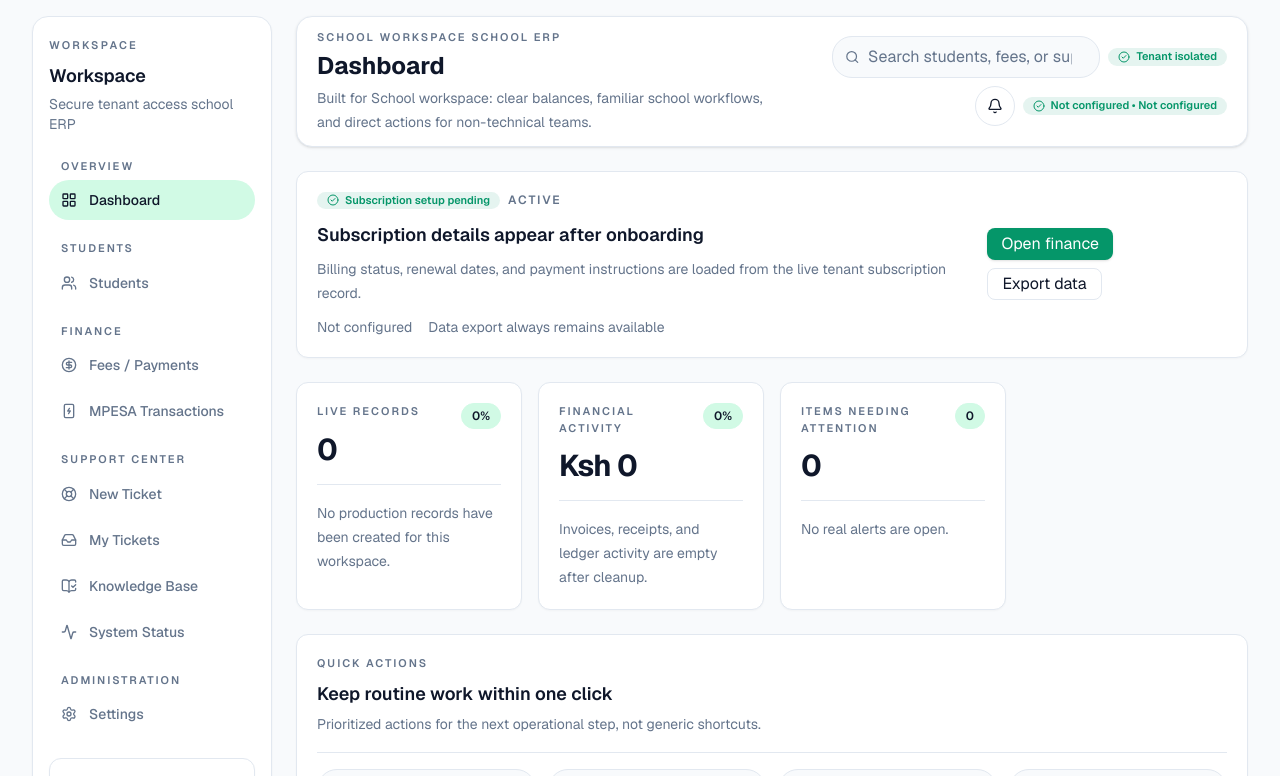
experience actions › supports shell search and notifications inside the hosted school workspace
In the search field named "Workspace search": (978, 57) [868,45,1088,69], type "fees"
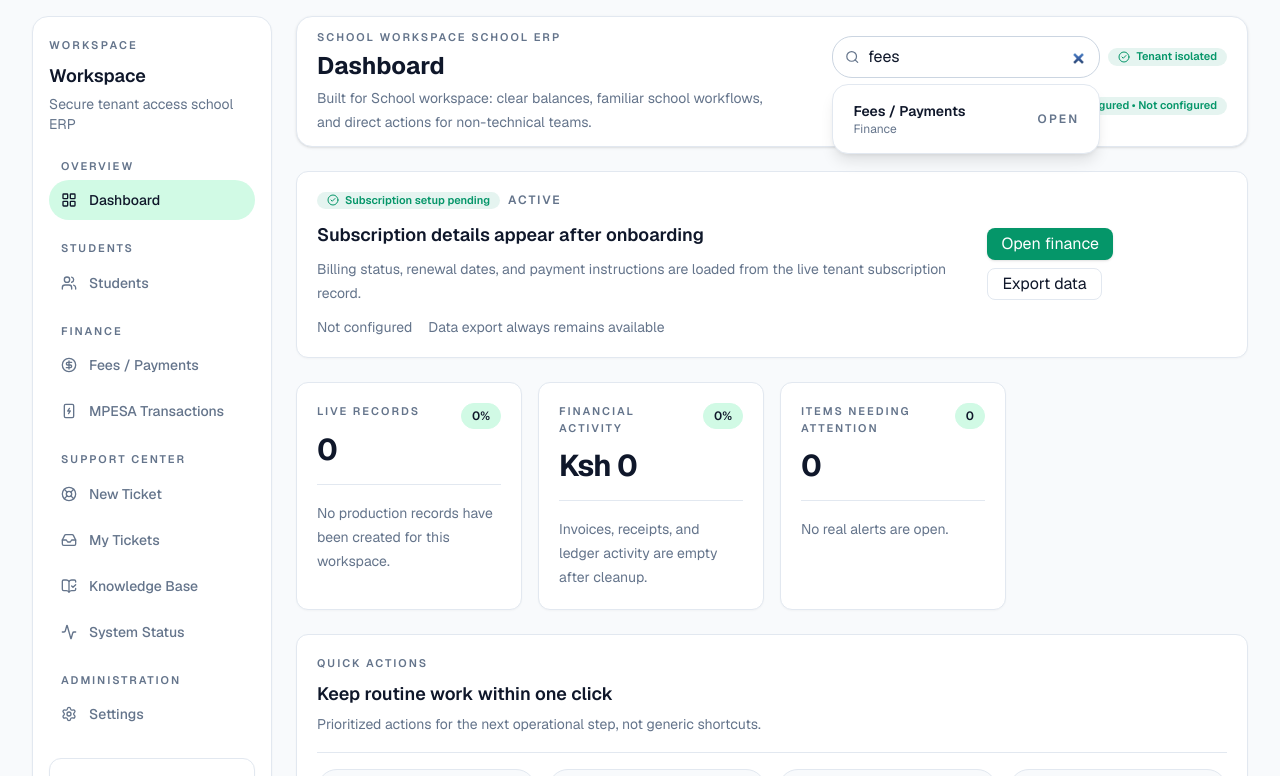
Click the button "Fees / Payments Finance Open": (966, 119) [841,93,1091,145]
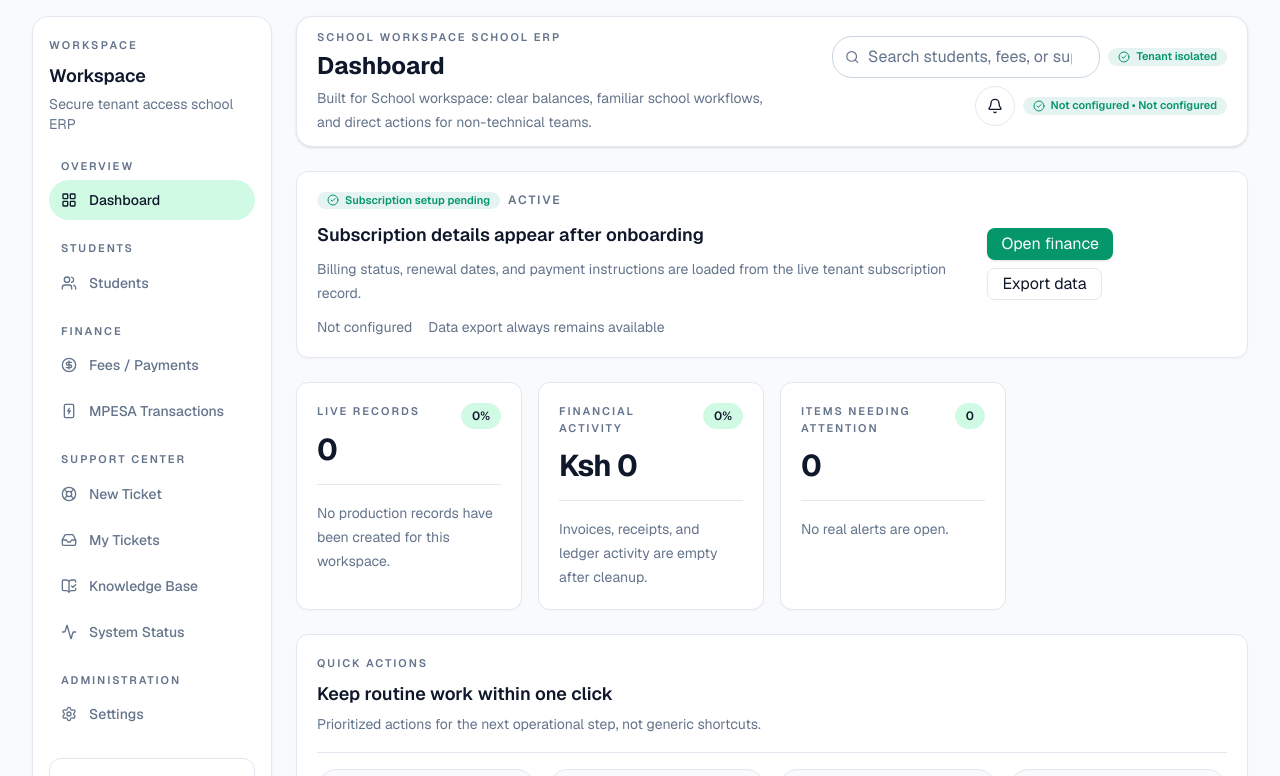
Click the button named "Notifications": (994, 106) [974,86,1014,126]
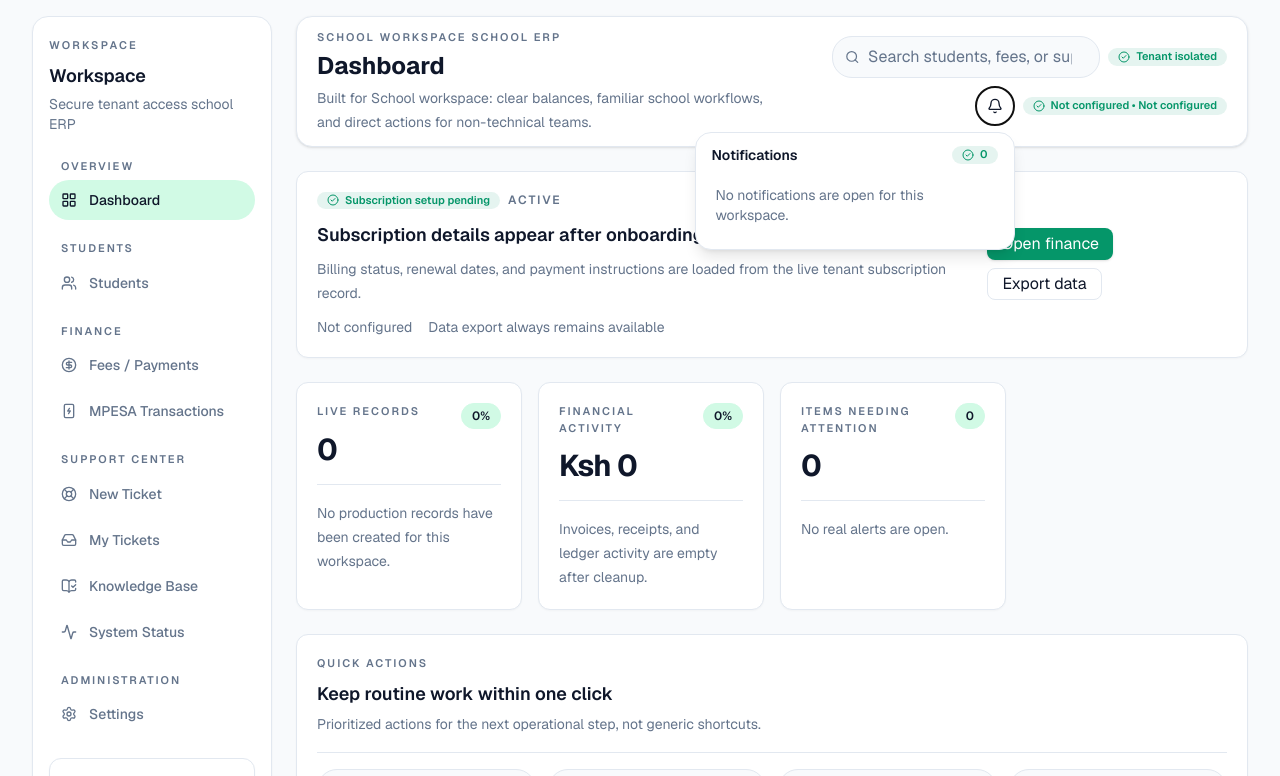
Expected: the text "No notifications are open for this workspace." is shown, [716,186,924,224]
